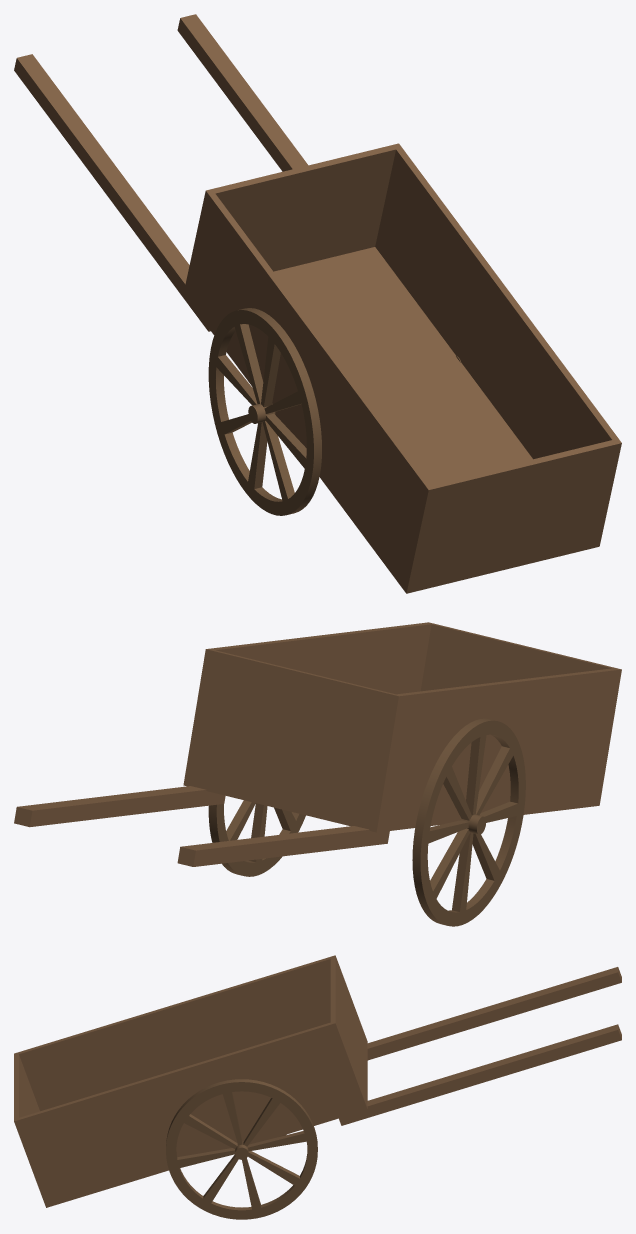
3 views of the same model, one above another, from view 1: azimuth 30°, elevation 25°; view 2: azimuth 150°, elevation 25°; view 3: azimuth 270°, elevation 25° (orthographic). The views are drawn at different scales.
Visible parts, largest first — view 1: handcart; view 2: handcart; view 3: handcart.
Boxes of the visible parts, x1=… form: handcart: x1=14, y1=14, x2=621, y2=593; handcart: x1=14, y1=622, x2=621, y2=926; handcart: x1=14, y1=955, x2=621, y2=1219.
Bounding box in the file's own units: 0.623 × 0.6988 × 1.99.
